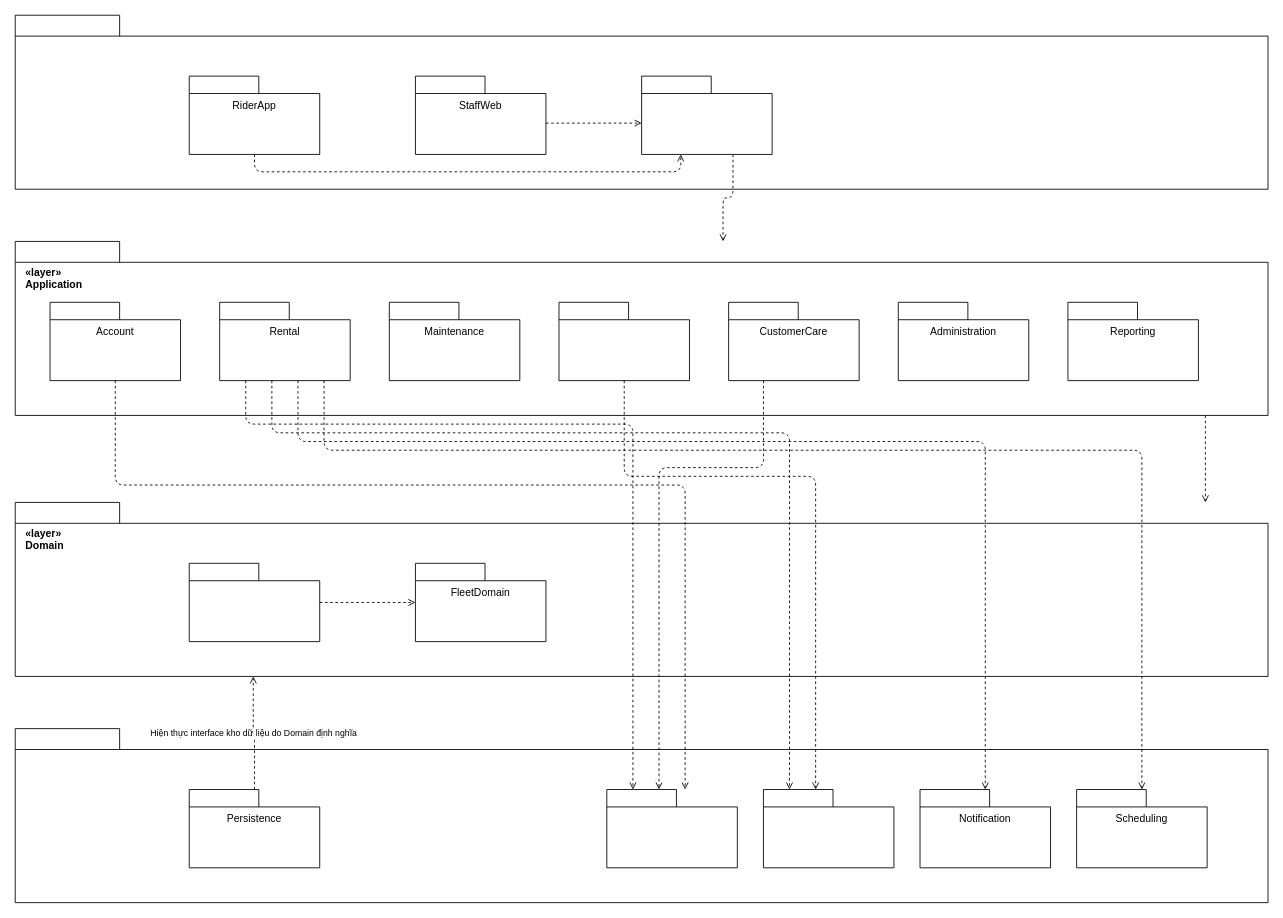
The diagram is 1283 pixels wide and 918 high, and some of its shapes have lost their labels. Here are the shapes that lost their labels. From the top down, the box of each, then its label:
(14, 14, 1268, 189): «layer» Presentation
(641, 75, 772, 154): ApiEndpoints
(558, 301, 689, 381): Dispatch
(188, 562, 320, 642): RentalDomain
(14, 728, 1268, 903): «layer» TechnicalServices
(606, 789, 737, 868): PaymentIntegration
(763, 789, 894, 868): DeviceIntegration
